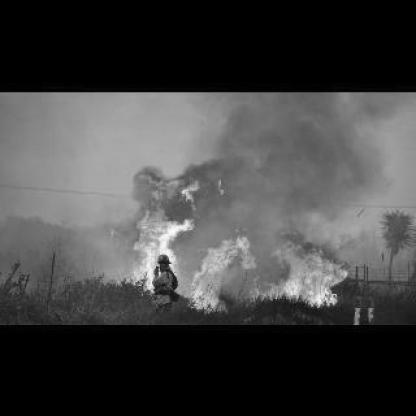fire: (122, 166, 347, 310)
